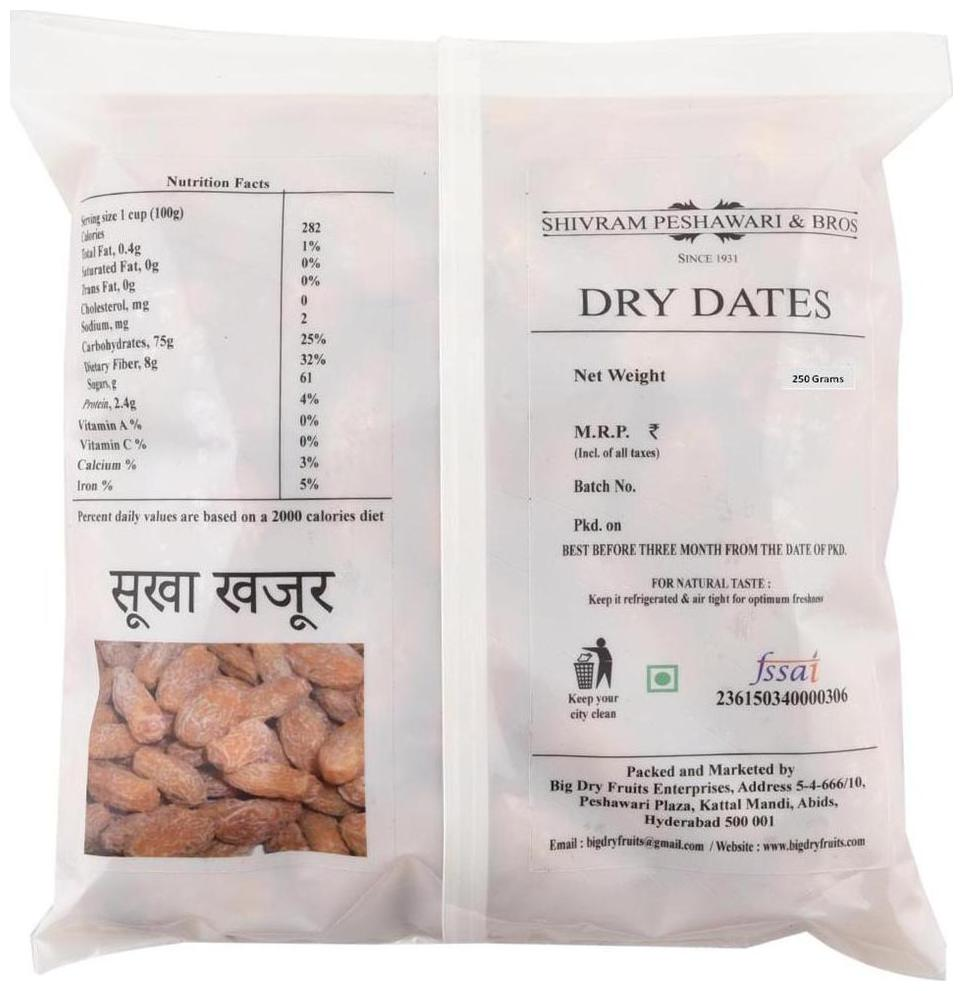fssai: (747, 648, 822, 686)
